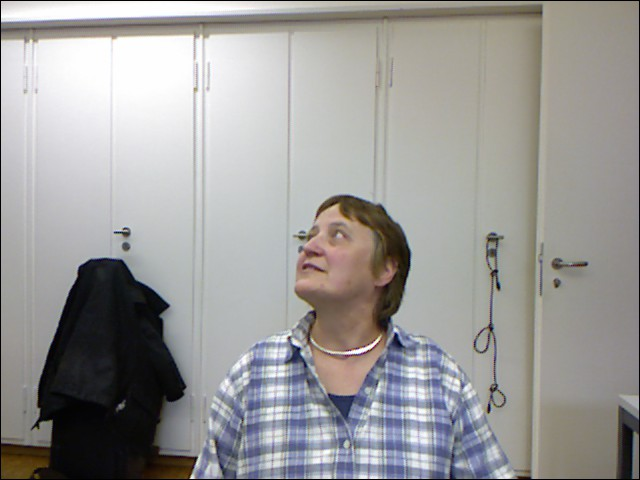deflection: (213, 202, 480, 463)
